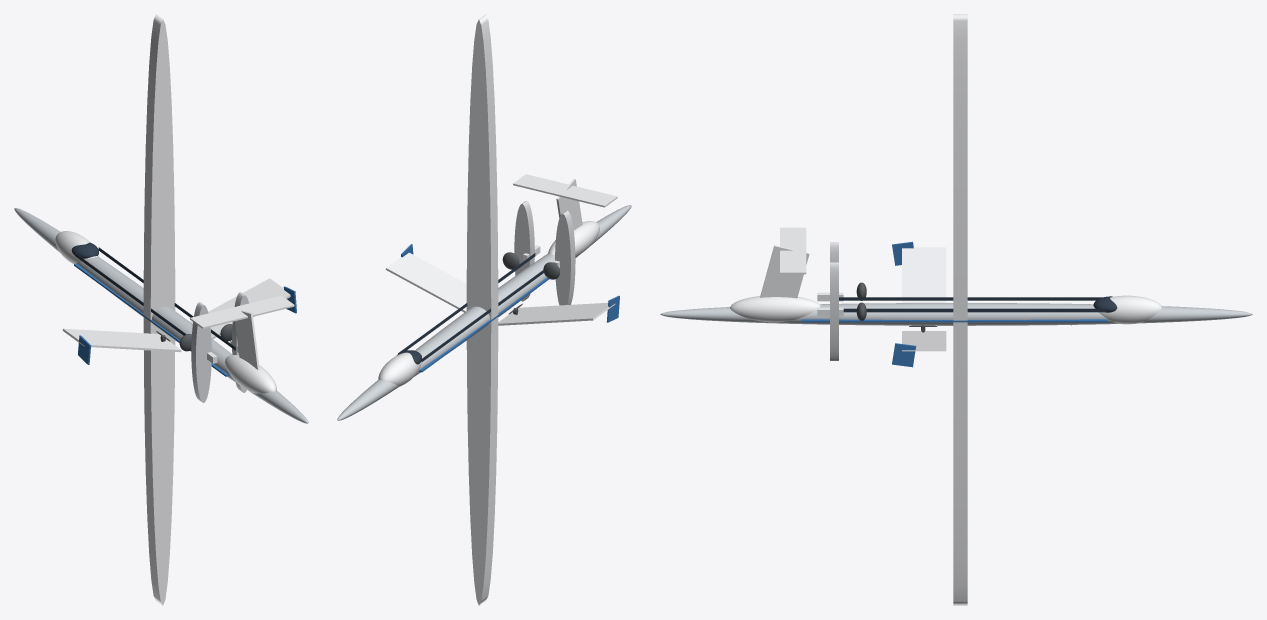
The model's file is crj900.glb.
3 views of the same model, side by side, from view 1: azimuth 30°, elevation 25°; view 2: azimuth 150°, elevation 25°; view 3: azimuth 270°, elevation 25° (orthographic).
Parts seen in each view (by area): view 1: CRJ_FUS, CRJ_BELLY, CRJ_WING_R, CRJ_NAC_R, CRJ_STAB, CRJ_TAILCONE, CRJ_WING_L, CRJ_FIN, CRJ_NOSE, CRJ_STRIPE, CRJ_WINDOWS_R; view 2: CRJ_FUS, CRJ_BELLY, CRJ_WING_L, CRJ_WING_R, CRJ_NAC_R, CRJ_STAB, CRJ_NAC_L, CRJ_NOSE, CRJ_TAILCONE, CRJ_FIN, CRJ_STRIPE, CRJ_WINDOWS_R (+1 smaller); view 3: CRJ_FUS, CRJ_BELLY, CRJ_WING_R, CRJ_TAILCONE, CRJ_FIN, CRJ_STAB, CRJ_NOSE, CRJ_WINDOWS_L, CRJ_STRIPE, CRJ_WINDOWS_R, CRJ_NAC_L, CRJ_WING_L.
Part boxes in pixels (x1,y1,x2,y2): CRJ_FUS: (143,14,175,605); CRJ_BELLY: (14,208,308,423); CRJ_WING_R: (62,328,181,352); CRJ_NAC_R: (191,302,211,402); CRJ_STAB: (190,295,294,328); CRJ_TAILCONE: (225,355,276,393); CRJ_WING_L: (190,278,290,338); CRJ_FIN: (235,310,259,370); CRJ_NOSE: (55,231,98,263); CRJ_STRIPE: (74,263,228,376); CRJ_WINDOWS_R: (75,253,186,335); CRJ_FUS: (466,14,498,605); CRJ_BELLY: (337,205,631,420); CRJ_WING_L: (385,252,466,312); CRJ_WING_R: (498,302,615,325); CRJ_NAC_R: (555,210,575,305); CRJ_STAB: (513,174,617,207); CRJ_NAC_L: (514,200,534,301); CRJ_NOSE: (378,352,421,386); CRJ_TAILCONE: (548,221,599,256); CRJ_FIN: (556,178,582,230); CRJ_STRIPE: (419,277,549,372); CRJ_WINDOWS_R: (421,270,543,361); CRJ_FUS: (953,14,967,605); CRJ_BELLY: (660,303,1252,325); CRJ_WING_R: (902,247,946,302); CRJ_TAILCONE: (730,296,820,322); CRJ_FIN: (760,245,809,298); CRJ_STAB: (780,227,806,274); CRJ_NOSE: (1093,295,1161,324); CRJ_WINDOWS_L: (843,308,1106,312); CRJ_STRIPE: (801,319,1107,322); CRJ_WINDOWS_R: (839,297,1102,300); CRJ_NAC_L: (830,262,838,360); CRJ_WING_L: (902,331,946,351).
Bounding box in the file's own units: 24.01 × 64.8 × 58.8.
